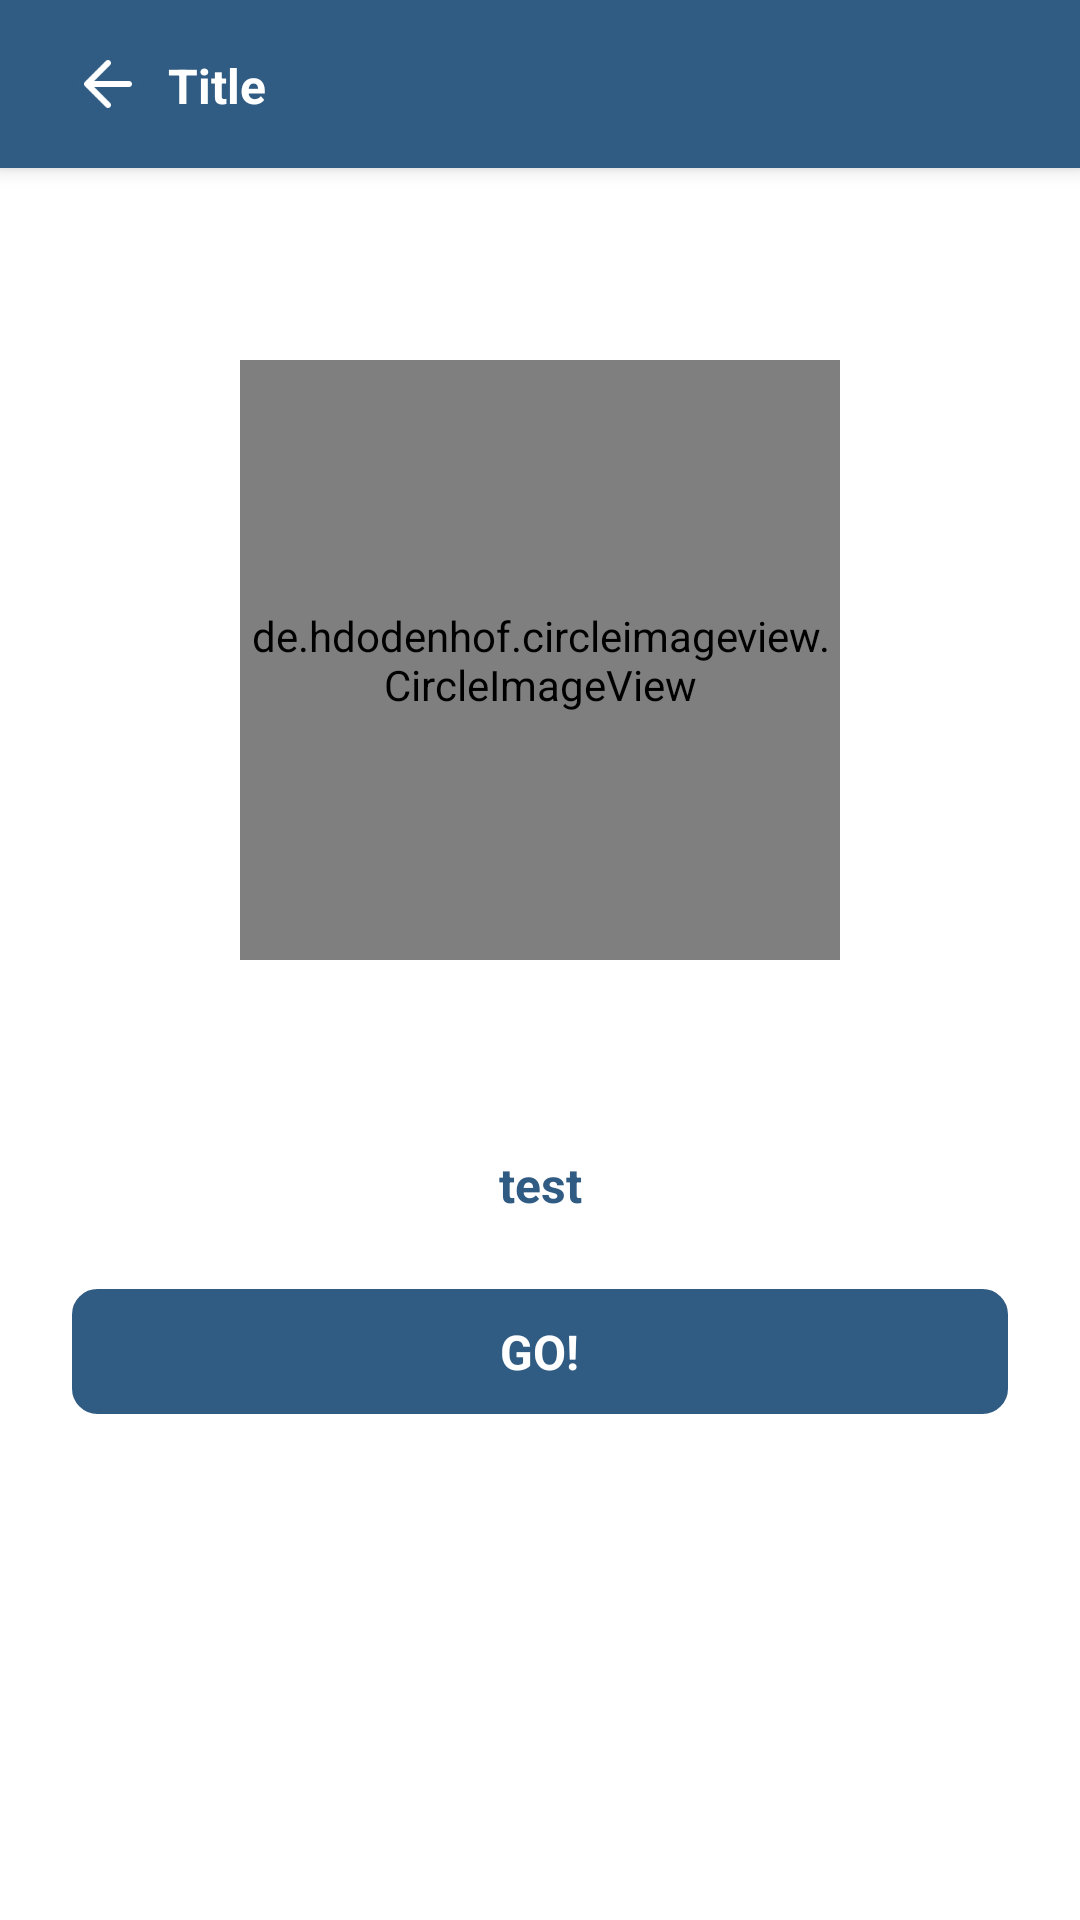

Named icons in this screenshot (1080w x 1920h) and their centers, (x,y):
arrow left: (108,84)
